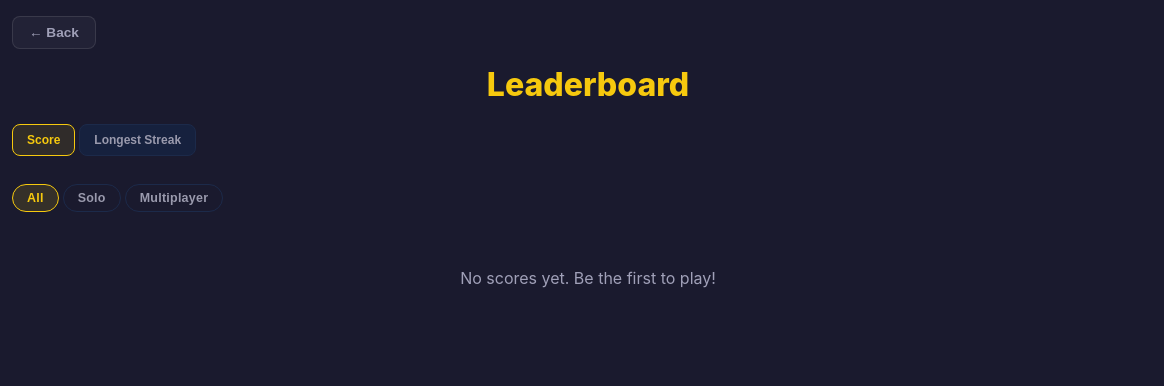
Test: LeaderboardPage › lazy-loads the streak leaderboard the first time the tab is clicked
Click the tab "Longest Streak".
click(138, 140)  # box [79, 124, 196, 156]
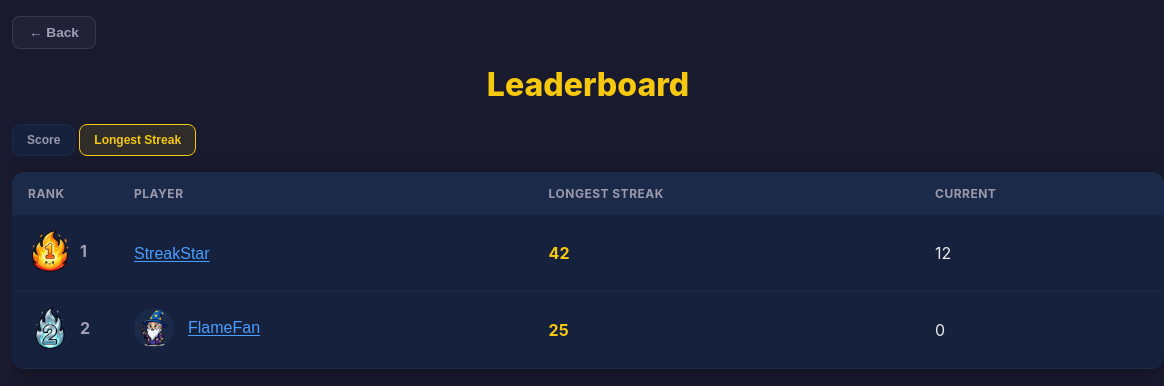
Result: the text "StreakStar" is shown at [134, 245, 210, 263]
Result: the text "FlameFan" is shown at [188, 319, 260, 337]
Result: the text "42" is shown at [533, 215, 919, 292]
